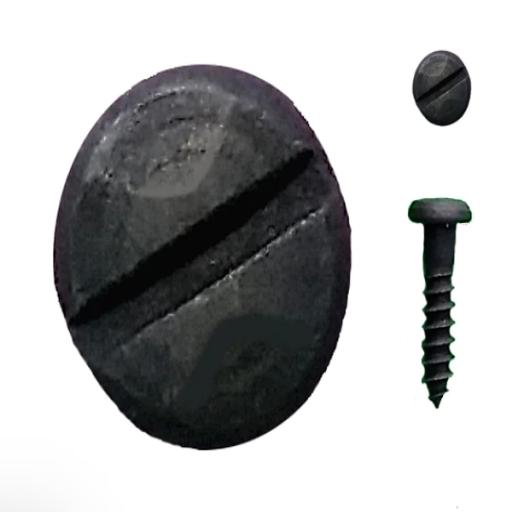Slotted: (50, 64, 352, 452)
